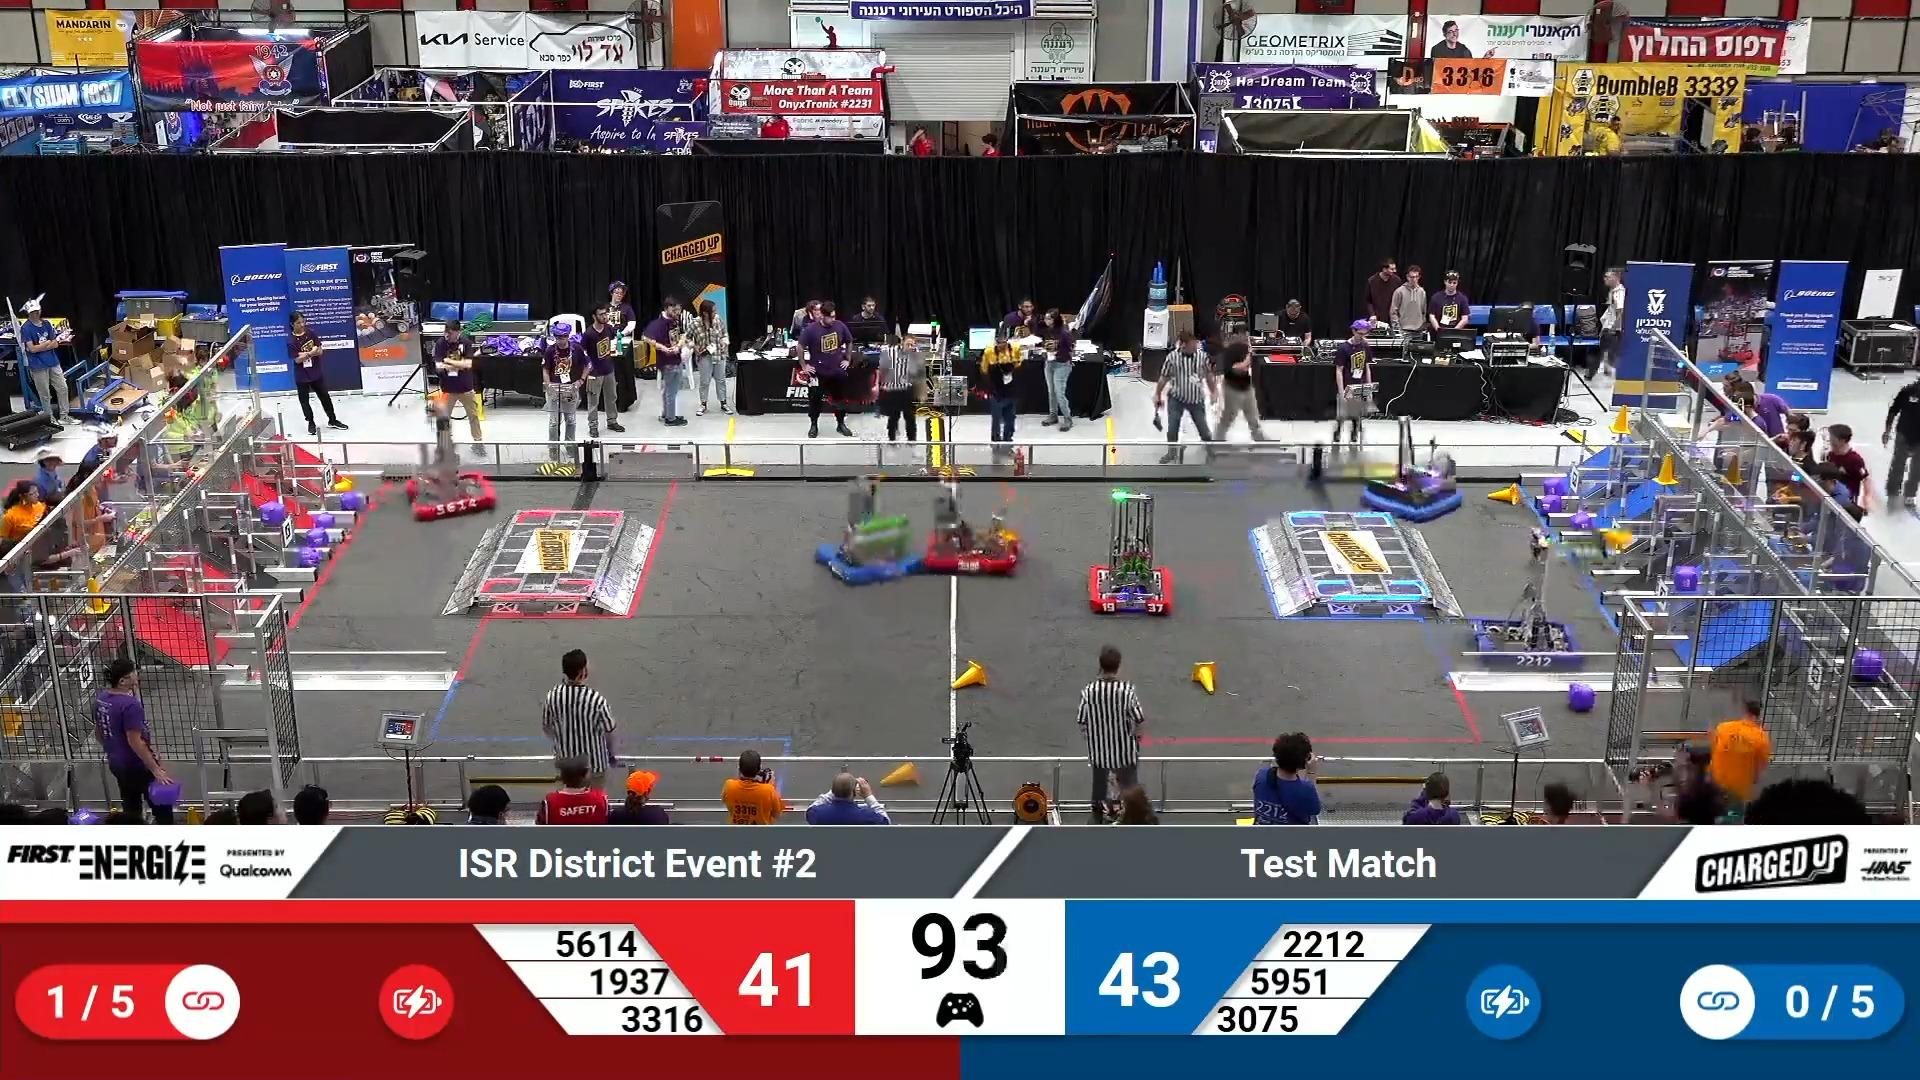robot: (1470, 525, 1581, 669), (394, 393, 496, 522), (812, 475, 918, 588), (1356, 417, 1462, 521), (919, 468, 1022, 575), (1087, 547, 1174, 616)
